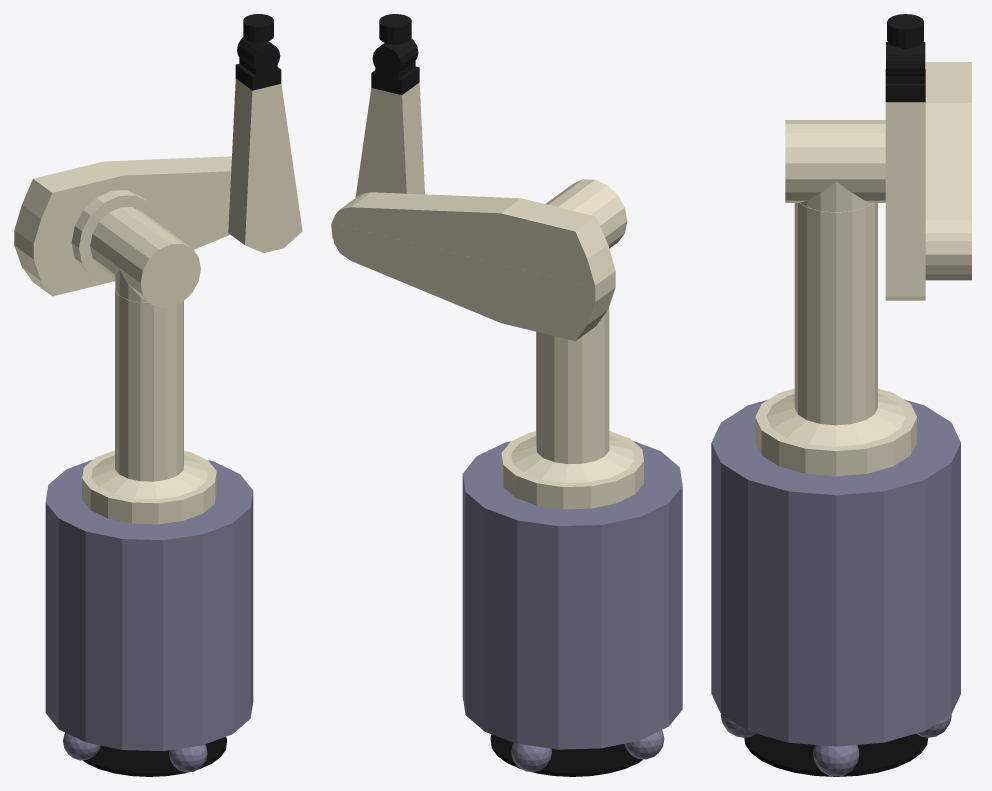
File: pumaarm.dae
3 renders of one model, left to right at view 1: azimuth 30°, elevation 25°; view 2: azimuth 150°, elevation 25°; view 3: azimuth 270°, elevation 25°, orthographic. The views are drawn at different scales.
Visible parts, largest first — view 1: Base (×3), Puma2, Puma3, Puma1, Puma4, Puma5, Puma6; view 2: Base (×3), Puma2, Puma3, Puma1, Puma4, Puma5, Puma6; view 3: Base (×3), Puma2, Puma1, Puma3, Puma5, Puma6, Puma4.
Boxes of the visible parts, <box> form: Base (×3): <box>45,288,253,776</box>; Puma2: <box>14,156,231,296</box>; Puma3: <box>228,79,302,253</box>; Puma1: <box>90,207,200,307</box>; Puma4: <box>235,53,281,90</box>; Puma5: <box>237,37,280,73</box>; Puma6: <box>243,14,273,42</box>; Base (×3): <box>462,306,682,776</box>; Puma2: <box>331,192,615,341</box>; Puma3: <box>355,82,424,197</box>; Puma1: <box>545,179,627,248</box>; Puma4: <box>371,59,419,95</box>; Puma5: <box>372,39,418,72</box>; Puma6: <box>379,14,411,44</box>; Base (×3): <box>711,202,960,776</box>; Puma2: <box>925,62,971,280</box>; Puma1: <box>785,120,885,212</box>; Puma3: <box>885,102,925,300</box>; Puma5: <box>886,42,925,75</box>; Puma6: <box>887,14,923,48</box>; Puma4: <box>885,69,925,102</box>.
Size of the model in its own units: 0.7875 by 0.5756 by 1.9.
